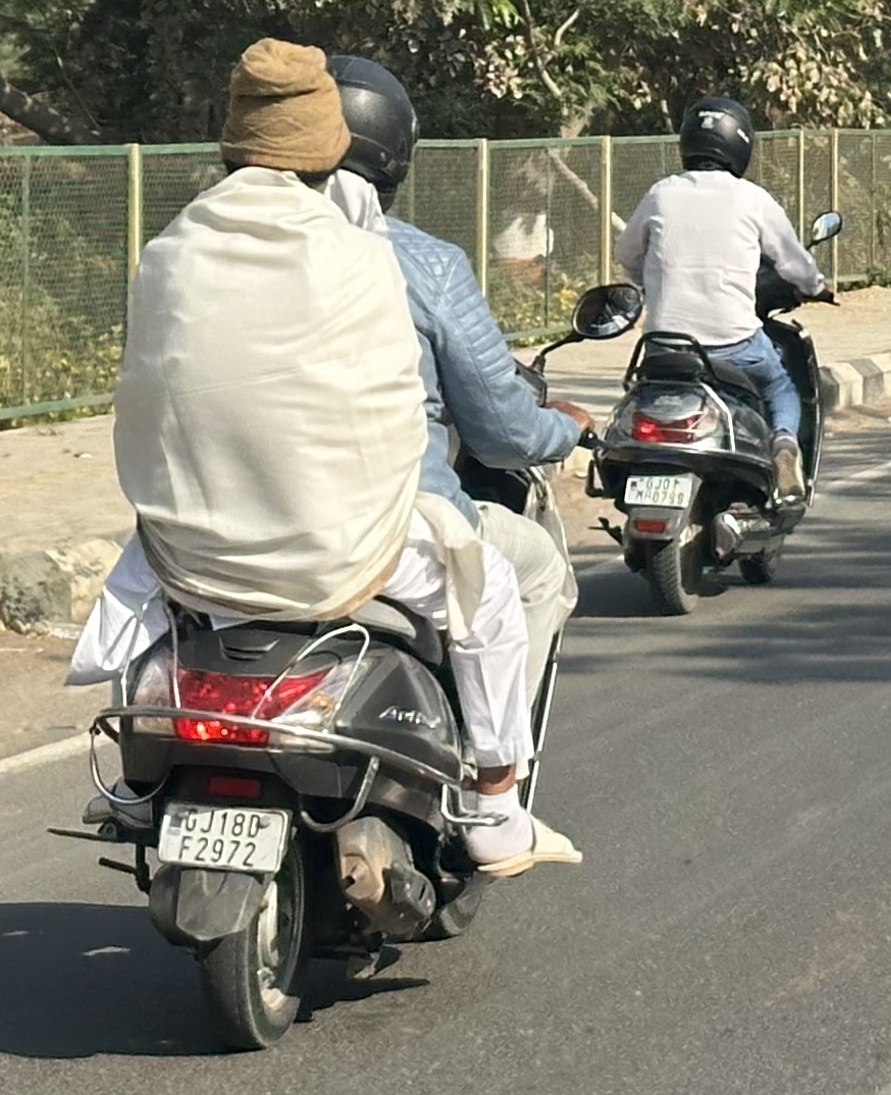BikeWithRider: (32, 26, 634, 1061), (561, 84, 854, 623)
Helmet: (305, 45, 432, 218), (662, 85, 769, 185)
NoHelmet: (201, 27, 361, 192)
